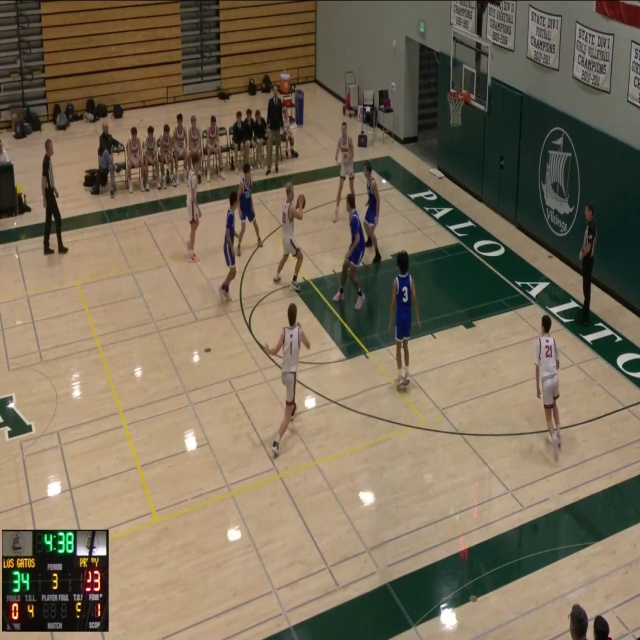Basketball: (296, 194, 305, 209)
